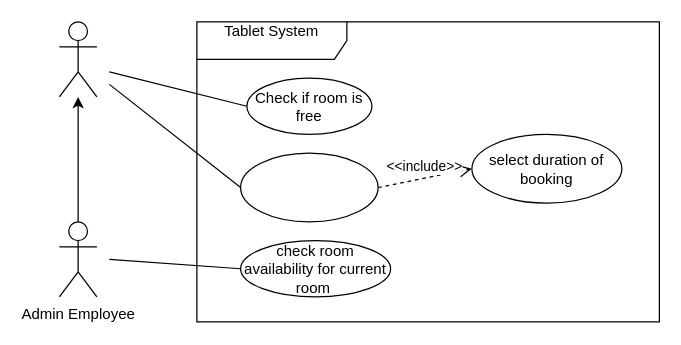
The diagram is 681 pixels wide and 345 high, and some of its shapes have lost their labels. Here are the shapes that lost their labels. From the top down, the centre of each, then its label:
At point 77,59: "Employee".
At point 308,187: "book room from right now".
